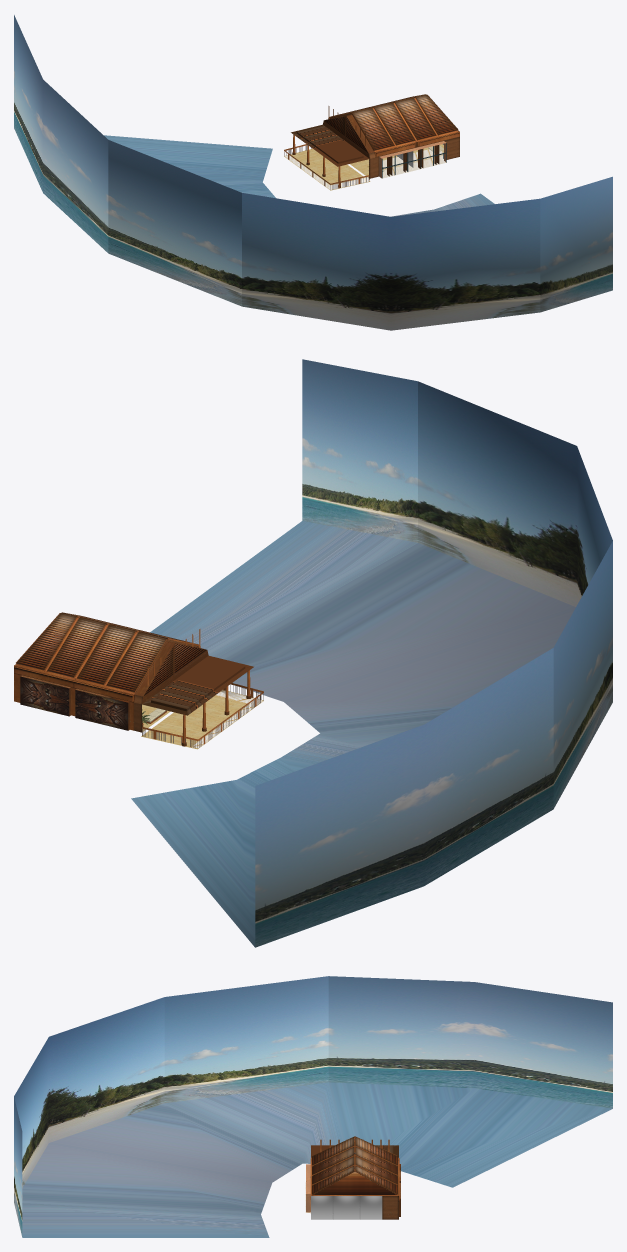
The model's file is FitnessStudioSea.FBX.
3 views of the same model, one above another, from view 1: azimuth 30°, elevation 25°; view 2: azimuth 150°, elevation 25°; view 3: azimuth 270°, elevation 25° (orthographic). The views are drawn at different scales.
Parts seen in each view (by area): view 1: DEC_Walls; view 2: DEC_Walls; view 3: DEC_Walls, DEC_Mirror.
Boxes of the visible parts, box(x1,y1,x2,y2) form: DEC_Walls: box(14, 15, 612, 330); DEC_Walls: box(14, 359, 612, 947); DEC_Walls: box(14, 976, 612, 1237); DEC_Mirror: box(311, 1196, 382, 1219).
Size of what is drawn, in the model's own units: 3832 by 6183 by 1212.
